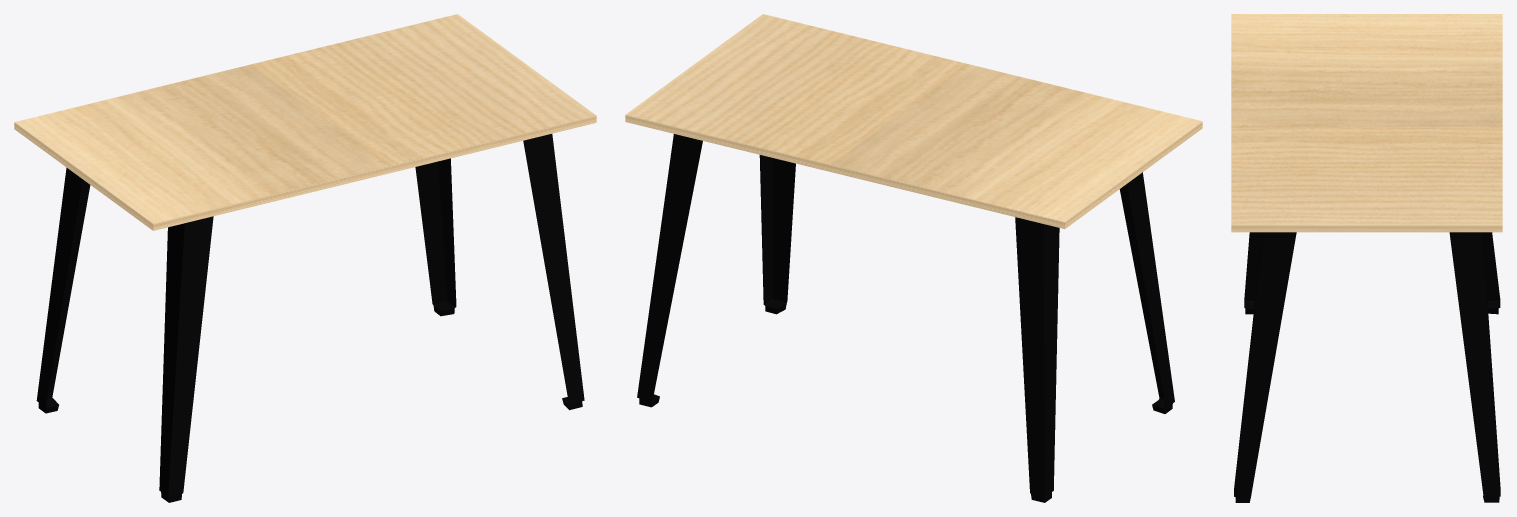
Rendered from tableConstructorMaterials.glb.
The picture shows the model from 3 angles, left to right: view 1: azimuth 30°, elevation 25°; view 2: azimuth 150°, elevation 25°; view 3: azimuth 270°, elevation 25°; orthographic projection. The views are drawn at different scales.
Visible parts, largest first — view 1: TableTop 120x65 Straight, LindaLeg3, LindaLeg1, LindaLeg4, LindaLeg2; view 2: TableTop 120x65 Straight, LindaLeg4, LindaLeg2, LindaLeg3, LindaLeg1; view 3: TableTop 120x65 Straight, LindaLeg1, LindaLeg2, LindaLeg3, LindaLeg4.
Part boxes in pixels (left/top/right/bottom): TableTop 120x65 Straight: left=14, top=14, right=596, bottom=230; LindaLeg3: left=159, top=216, right=213, bottom=502; LindaLeg1: left=523, top=134, right=584, bottom=410; LindaLeg4: left=36, top=167, right=90, bottom=413; LindaLeg2: left=415, top=158, right=456, bottom=316; TableTop 120x65 Straight: left=625, top=14, right=1202, bottom=228; LindaLeg4: left=1015, top=217, right=1059, bottom=502; LindaLeg2: left=637, top=134, right=702, bottom=407; LindaLeg3: left=1119, top=172, right=1174, bottom=413; LindaLeg1: left=759, top=155, right=795, bottom=314; TableTop 120x65 Straight: left=1231, top=14, right=1502, bottom=232; LindaLeg1: left=1234, top=232, right=1296, bottom=502; LindaLeg2: left=1449, top=232, right=1500, bottom=502; LindaLeg3: left=1244, top=232, right=1262, bottom=314; LindaLeg4: left=1482, top=232, right=1500, bottom=314.
Bounding box in the file's own units: 1.2 × 0.7496 × 0.6507.
2 materials, 1 textured.
